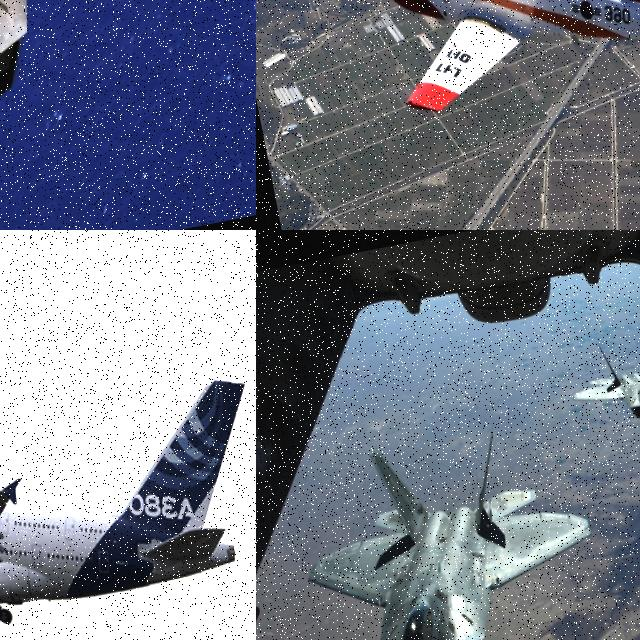A380: (0, 372, 256, 640)
F22: (285, 412, 640, 640), (0, 0, 256, 230), (565, 330, 640, 451)
KT-1: (351, 0, 640, 140)
